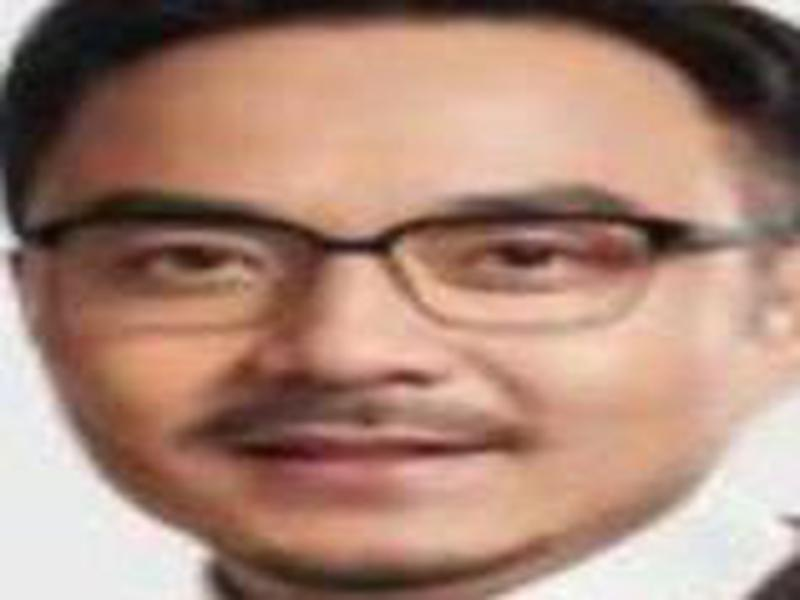without_mask: (27, 53, 736, 572)
